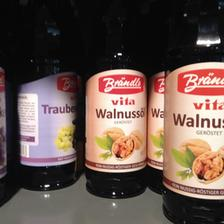Oel: (163, 0, 223, 219), (84, 0, 148, 196), (11, 0, 77, 190)
